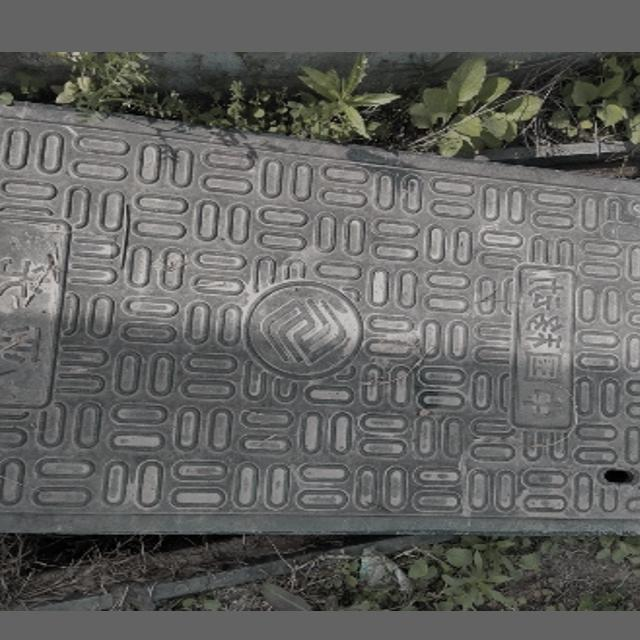uncovered: (0, 83, 640, 604)
